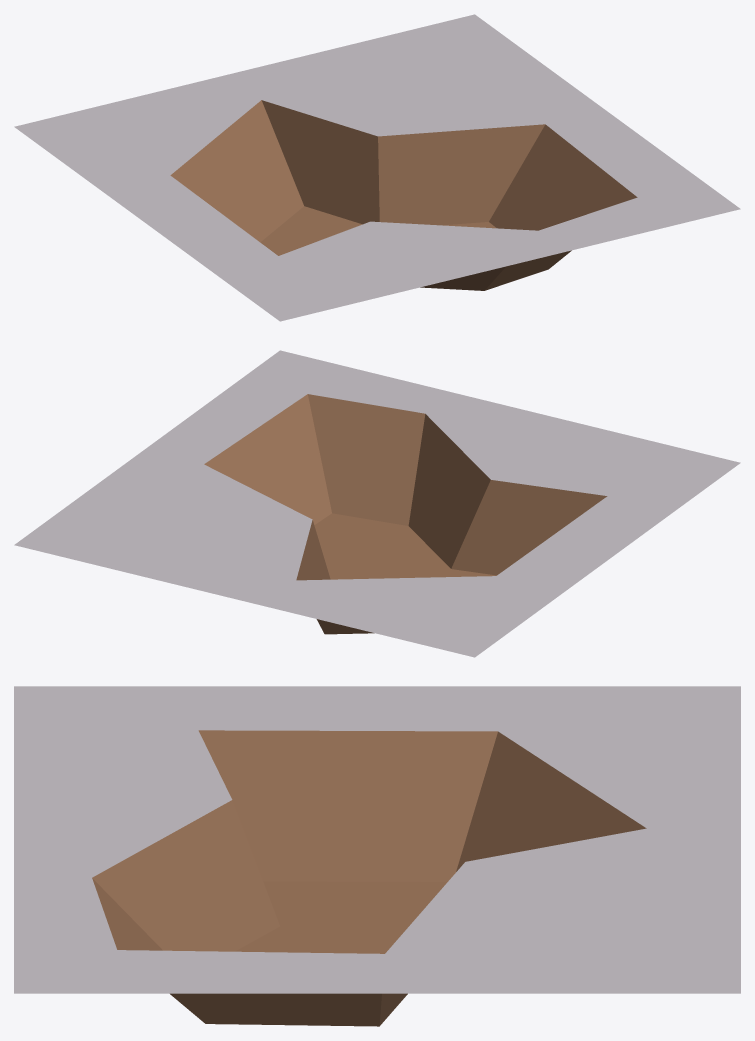
Rendered from FloorHole.glb.
The picture shows the model from 3 angles, top to bottom: view 1: azimuth 30°, elevation 25°; view 2: azimuth 150°, elevation 25°; view 3: azimuth 270°, elevation 25°; orthographic projection. The views are drawn at different scales.
Visible parts, largest first — view 1: FloorHole; view 2: FloorHole; view 3: FloorHole.
Part boxes in pixels (x1,y1,x2,y2): FloorHole: (14,14,740,321); FloorHole: (14,350,740,657); FloorHole: (14,686,740,1026).
Bounding box in the file's own units: 1.2 × 0.2035 × 1.2.
